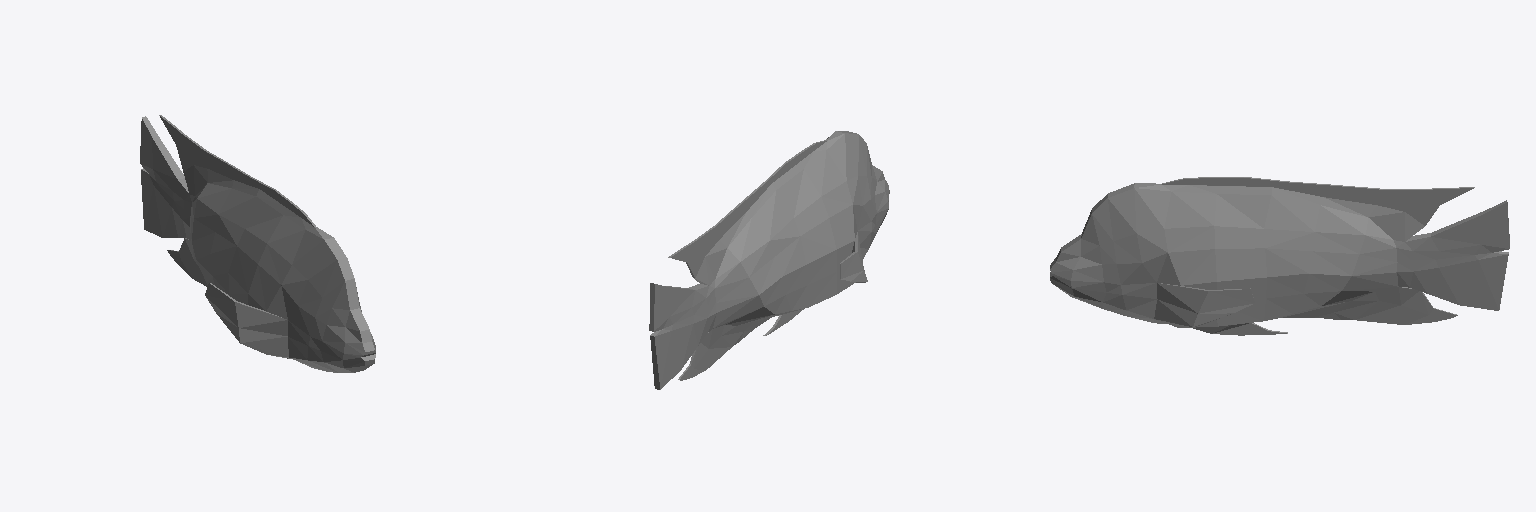
The model's file is TropicalFish09.obj.
3 views of the same model, side by side, from view 1: azimuth 30°, elevation 25°; view 2: azimuth 150°, elevation 25°; view 3: azimuth 270°, elevation 25° (orthographic).
Visible parts, largest first — view 1: TropicalFish09; view 2: TropicalFish09; view 3: TropicalFish09.
Part boxes in pixels (bbox=[...]): TropicalFish09: bbox=[140, 115, 375, 372]; TropicalFish09: bbox=[649, 131, 889, 389]; TropicalFish09: bbox=[1050, 177, 1509, 335].
Size of the model in its own units: 2.19 by 2.68 by 7.05.